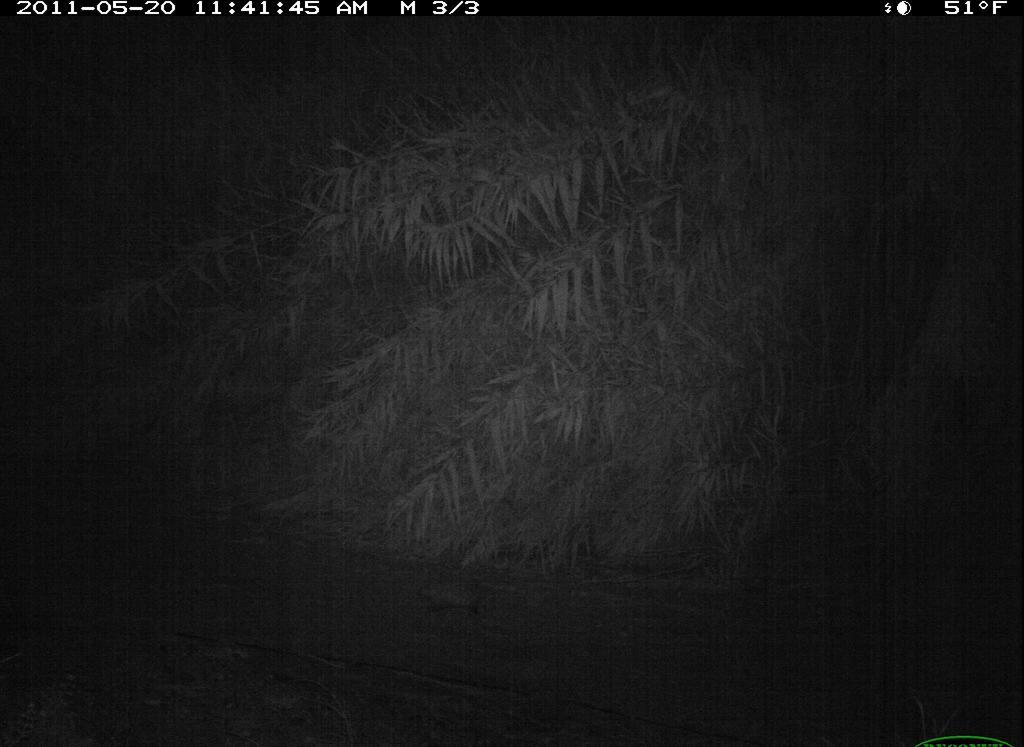opossum: (397, 569, 504, 638)
